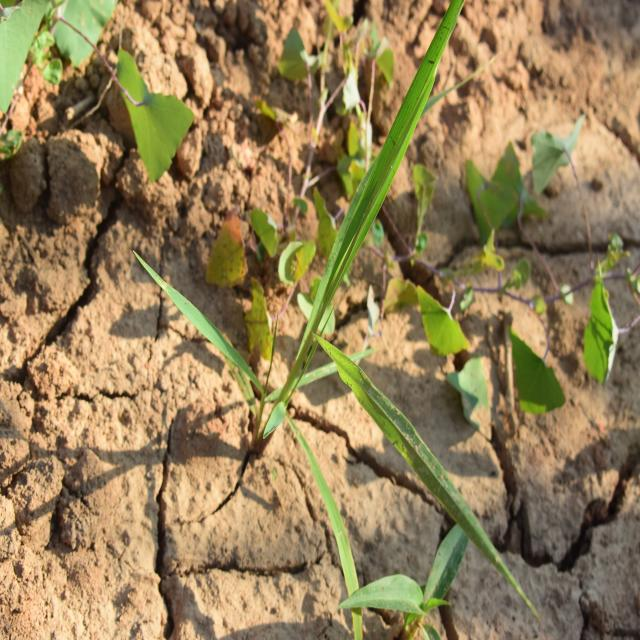green_foxtail: (224, 42, 461, 504)
